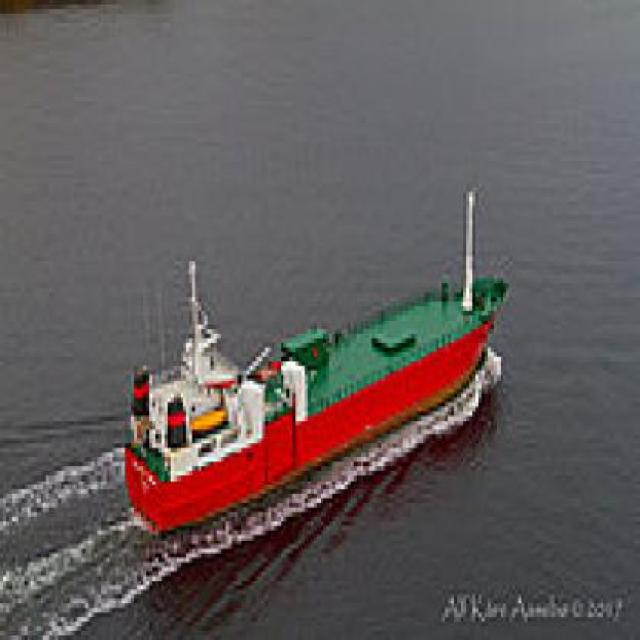container: (120, 189, 517, 532)
